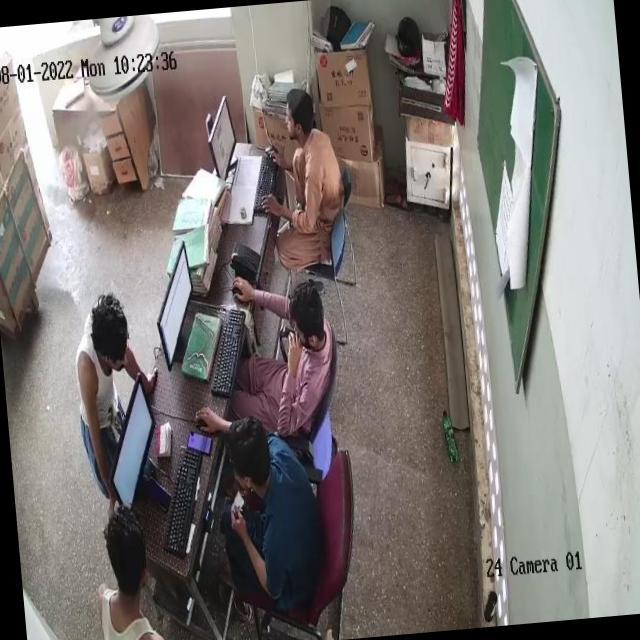person: (202, 402, 318, 598), (244, 272, 346, 426), (68, 284, 140, 460), (276, 90, 340, 247), (94, 521, 169, 640)
